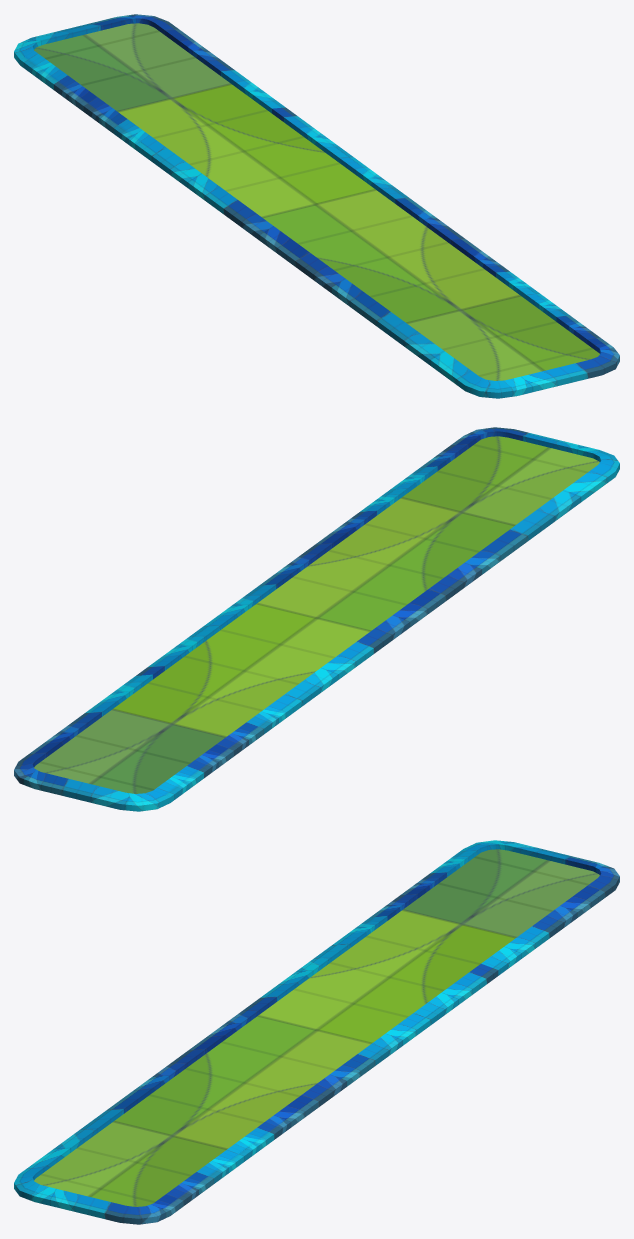
The model's file is GrassBorder7.fbx.
3 views of the same model, one above another, from view 1: azimuth 30°, elevation 25°; view 2: azimuth 150°, elevation 25°; view 3: azimuth 330°, elevation 25° (orthographic).
Visible parts, largest first — view 1: Loft006; view 2: Loft006; view 3: Loft006.
Boxes of the visible parts, x1,y1,x2,y2 form: Loft006: (14,14,619,398); Loft006: (14,427,619,811); Loft006: (14,840,619,1224).
Size of the model in its own units: 6.08 by 0.3789 by 33.78.
1 material, 1 textured.
